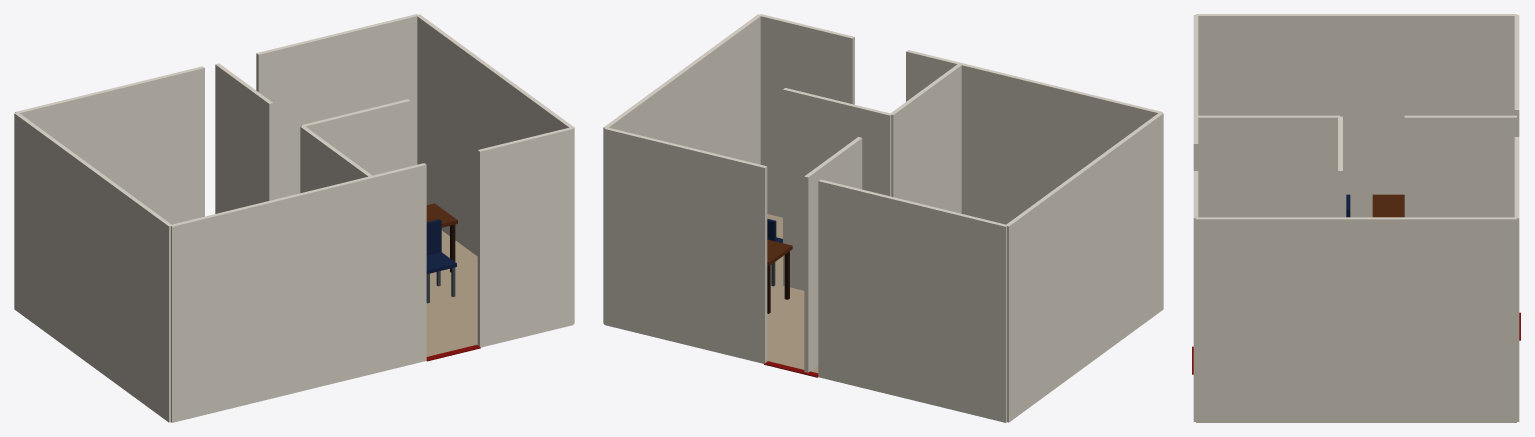
3 views of the same model, side by side, from view 1: azimuth 30°, elevation 25°; view 2: azimuth 150°, elevation 25°; view 3: azimuth 270°, elevation 25° (orthographic). The views are drawn at different scales.
Visible parts, largest first — view 1: wall_05, wall_06, wall_04, wall_01, wall_03, wall_02, wall_07, wall_09, Floor, wall_08, back; view 2: wall_01, wall_02, wall_06, wall_05, wall_03, wall_09, wall_04, wall_08, wall_07, Floor; view 3: wall_03, wall_06, wall_08, wall_07, wall_02, wall_05, wall_04, top, wall_01, wall_09.
Boxes of the visible parts, <box> form: wall_05: <box>170,163,426,422</box>; wall_06: <box>14,113,171,422</box>; wall_04: <box>477,127,573,347</box>; wall_01: <box>15,66,204,224</box>; wall_03: <box>416,14,574,323</box>; wall_02: <box>256,14,418,199</box>; wall_07: <box>215,63,273,213</box>; wall_09: <box>301,99,410,175</box>; Floor: <box>426,230,477,356</box>; wall_08: <box>300,125,372,193</box>; back: <box>426,219,441,255</box>; wall_01: <box>818,179,1007,422</box>; wall_02: <box>604,127,767,363</box>; wall_06: <box>1006,112,1163,422</box>; wall_05: <box>906,50,1162,224</box>; wall_03: <box>603,14,760,323</box>; wall_09: <box>783,88,891,290</box>; wall_04: <box>760,14,854,217</box>; wall_08: <box>890,63,961,213</box>; wall_07: <box>804,137,862,372</box>; Floor: <box>767,214,818,373</box>; wall_03: <box>1196,217,1516,422</box>; wall_06: <box>1196,14,1516,217</box>; wall_08: <box>1196,115,1340,217</box>; wall_07: <box>1404,115,1516,217</box>; wall_02: <box>1514,137,1519,421</box>; wall_05: <box>1193,15,1198,170</box>; wall_04: <box>1193,171,1198,421</box>; top: <box>1372,194,1404,217</box>; wall_01: <box>1514,15,1519,136</box>; wall_09: <box>1338,116,1342,217</box>.
Size of the model in its own units: 6.06 by 2.8 by 4.1.
